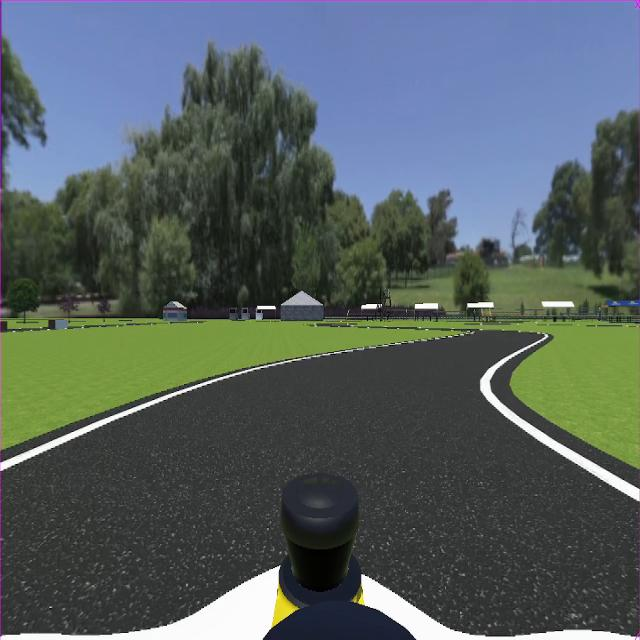road: (2, 332, 638, 634)
solid_line: (0, 346, 382, 472), (480, 336, 640, 501)
